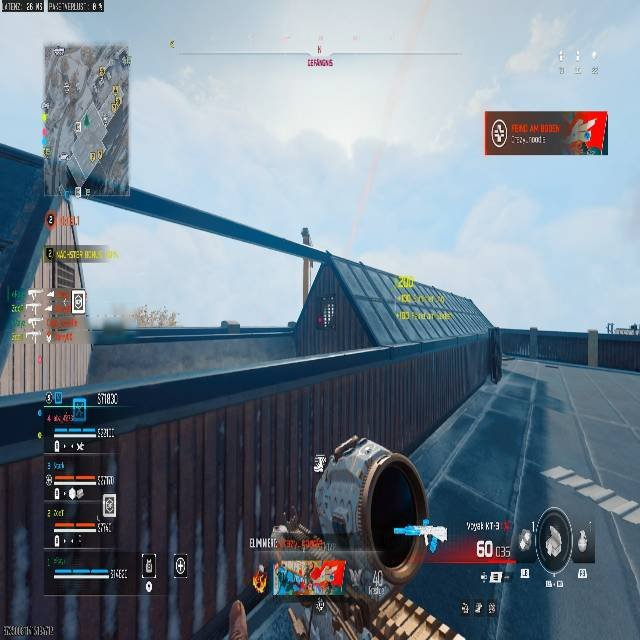head: (313, 439, 429, 578)
player: (178, 435, 477, 640)
